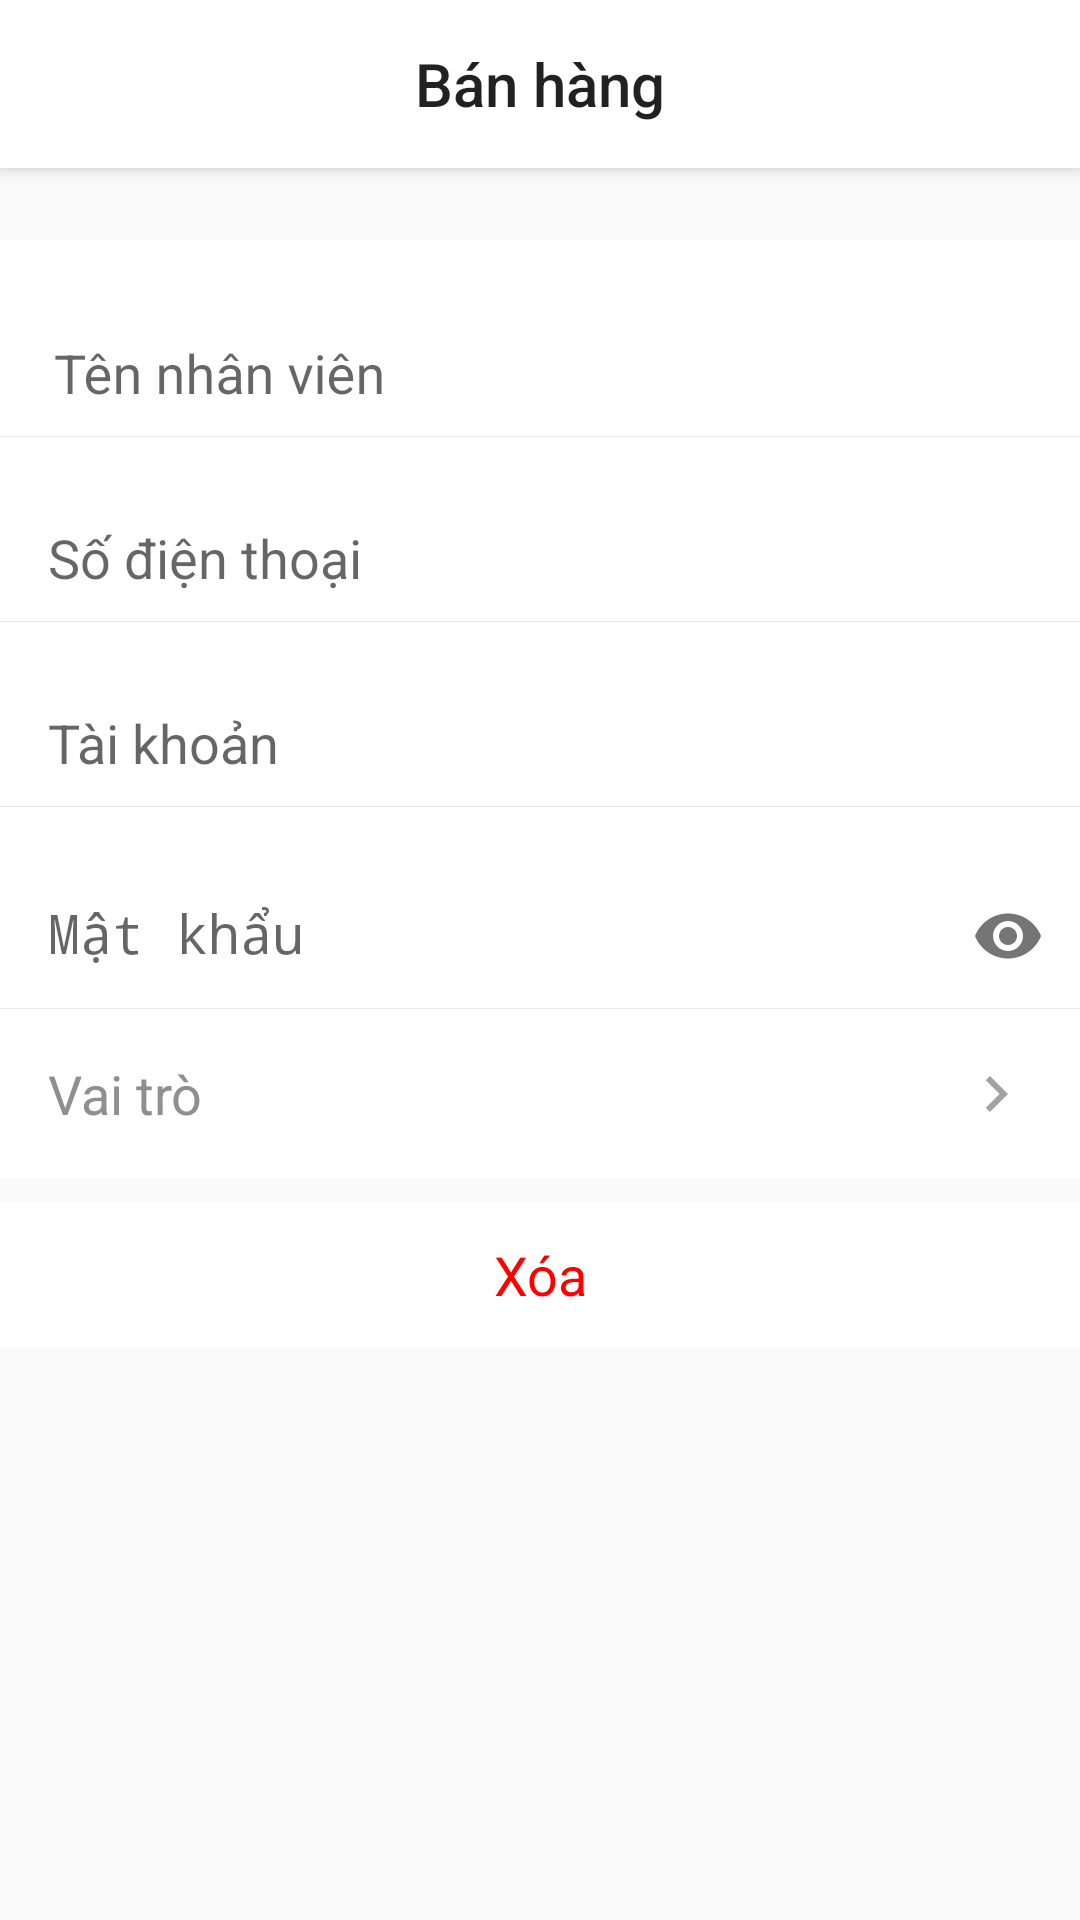

Icons on this 1080×1920 Android screen, each with its box as (x1, y1, x2, y2):
chevron right: (986, 1076, 1008, 1112)
